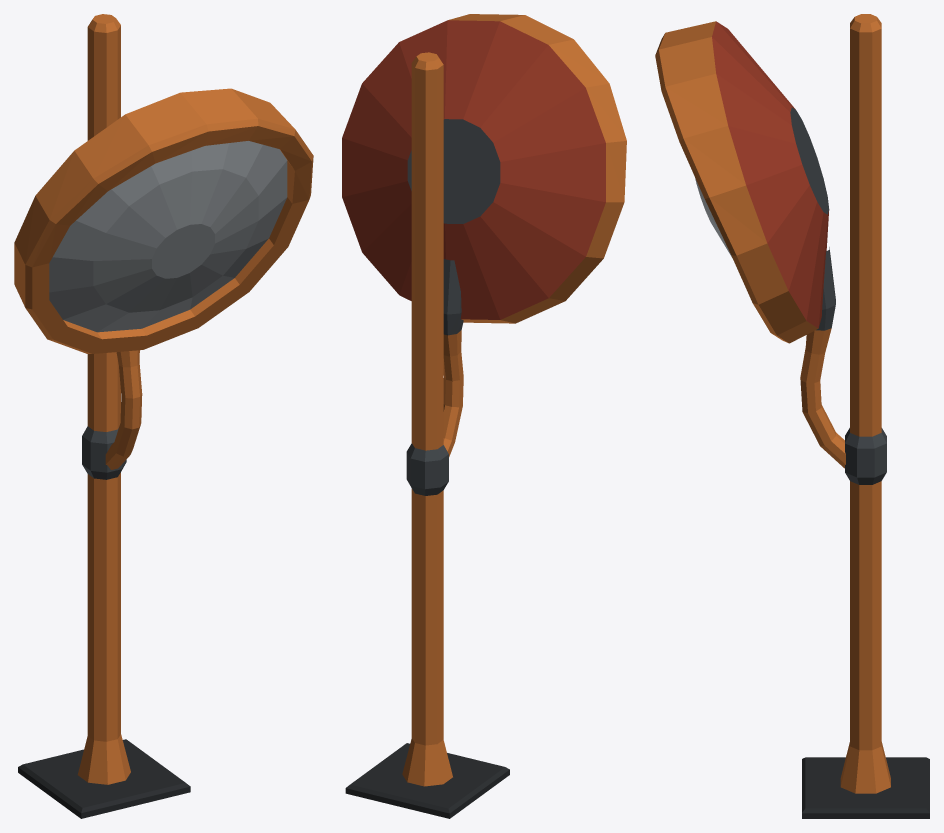
File: convex-traffic-mirror-a64d15.glb
The picture shows the model from 3 angles, left to right: view 1: azimuth 30°, elevation 25°; view 2: azimuth 150°, elevation 25°; view 3: azimuth 270°, elevation 25°; orthographic projection. The views are drawn at different scales.
Parts seen in each view (by area): view 1: mirror-dish, mast; view 2: mirror-dish, mast; view 3: mirror-dish, mast.
Part boxes in pixels (bbox=[...]): mirror-dish: bbox=[14, 88, 313, 469]; mast: bbox=[18, 14, 190, 818]; mirror-dish: bbox=[342, 14, 626, 456]; mast: bbox=[345, 52, 509, 818]; mirror-dish: bbox=[655, 21, 845, 468]; mast: bbox=[802, 14, 929, 818].
Bounding box in the file's own units: 0.94 × 2.4 × 0.7727.
